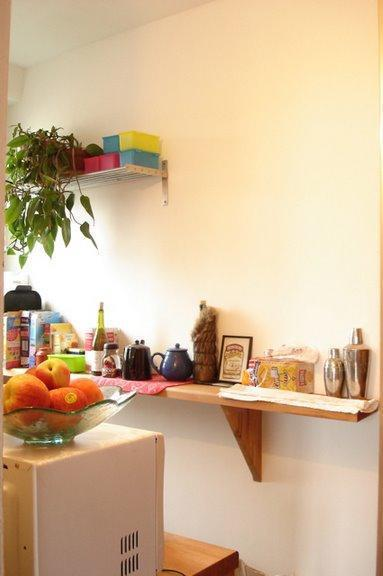Matera: (11, 117, 89, 261)
